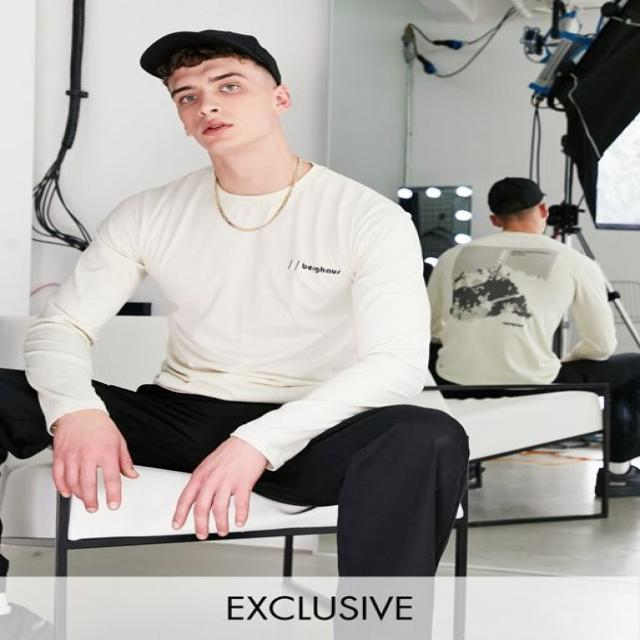tshirt: (24, 156, 435, 468)
